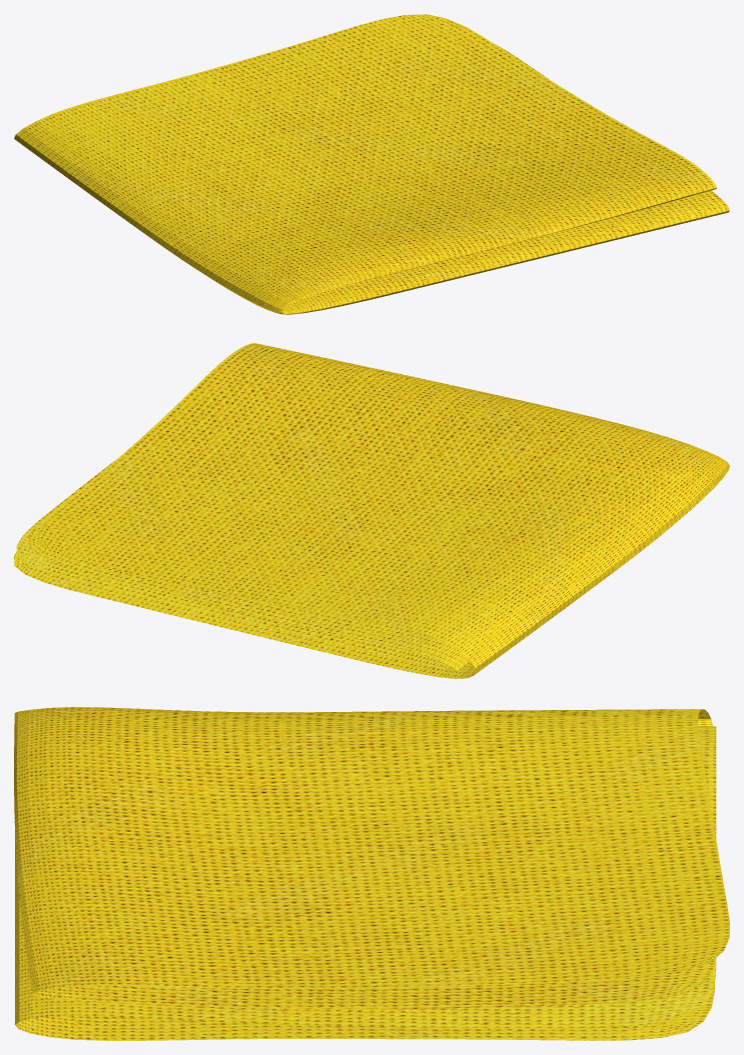
Rendered from Hasturcloth.fbx.
3 renders of one model, top to bottom at view 1: azimuth 30°, elevation 25°; view 2: azimuth 150°, elevation 25°; view 3: azimuth 270°, elevation 25°, orthographic. The views are drawn at different scales.
Visible parts, largest first — view 1: Hasturcloth; view 2: Hasturcloth; view 3: Hasturcloth.
Boxes of the visible parts, <box> form: Hasturcloth: <box>14,14,729,314</box>; Hasturcloth: <box>14,343,729,678</box>; Hasturcloth: <box>14,707,729,1040</box>.
Size of the model in its own units: 254 by 21.46 by 249.
Materials: 1 (1 with a texture image).
